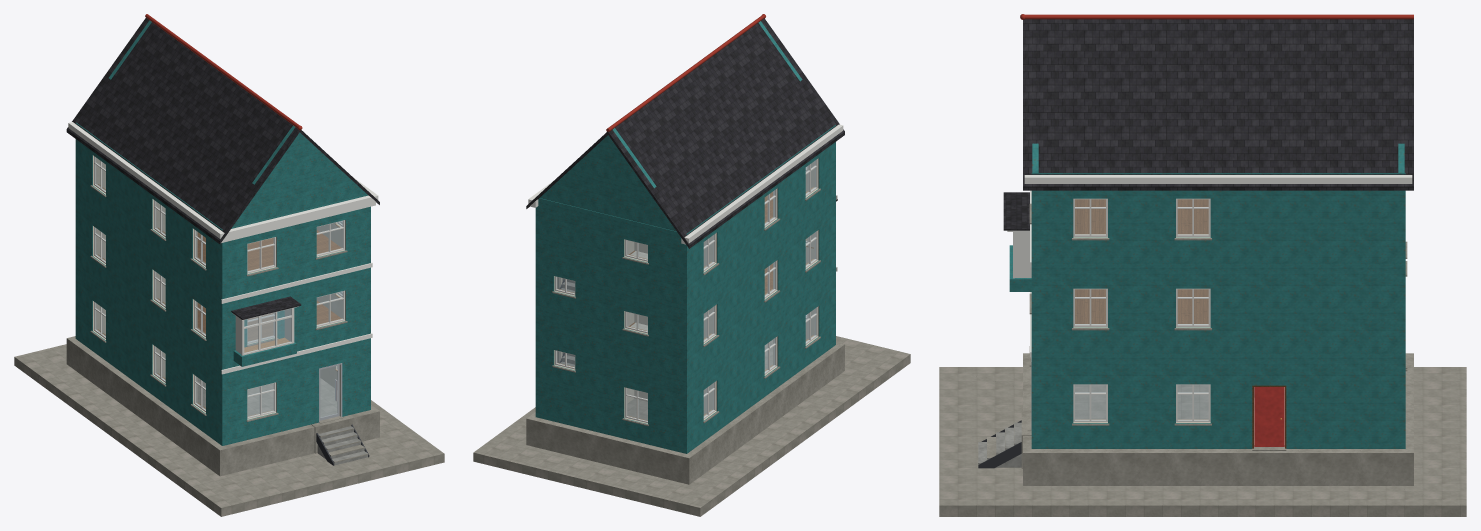
The model's file is b_sf_painted_lady.gltf.
3 views of the same model, side by side, from view 1: azimuth 30°, elevation 25°; view 2: azimuth 150°, elevation 25°; view 3: azimuth 270°, elevation 25° (orthographic). The views are drawn at different scales.
Visible parts, largest first — view 1: S_sf_painted_lady, D_sf_painted_lady_F1_S1_Door0; view 2: S_sf_painted_lady; view 3: S_sf_painted_lady, D_sf_painted_lady_F1_E2_Door0.
Boxes of the visible parts, bbox=[...] form: S_sf_painted_lady: bbox=[14, 14, 444, 516]; D_sf_painted_lady_F1_S1_Door0: bbox=[320, 365, 339, 420]; S_sf_painted_lady: bbox=[473, 14, 910, 516]; S_sf_painted_lady: bbox=[939, 14, 1466, 516]; D_sf_painted_lady_F1_E2_Door0: bbox=[1254, 387, 1284, 446].
Bounding box in the file's own units: 10.6 × 15.42 × 17.
Materials: 21 (12 with a texture image).
